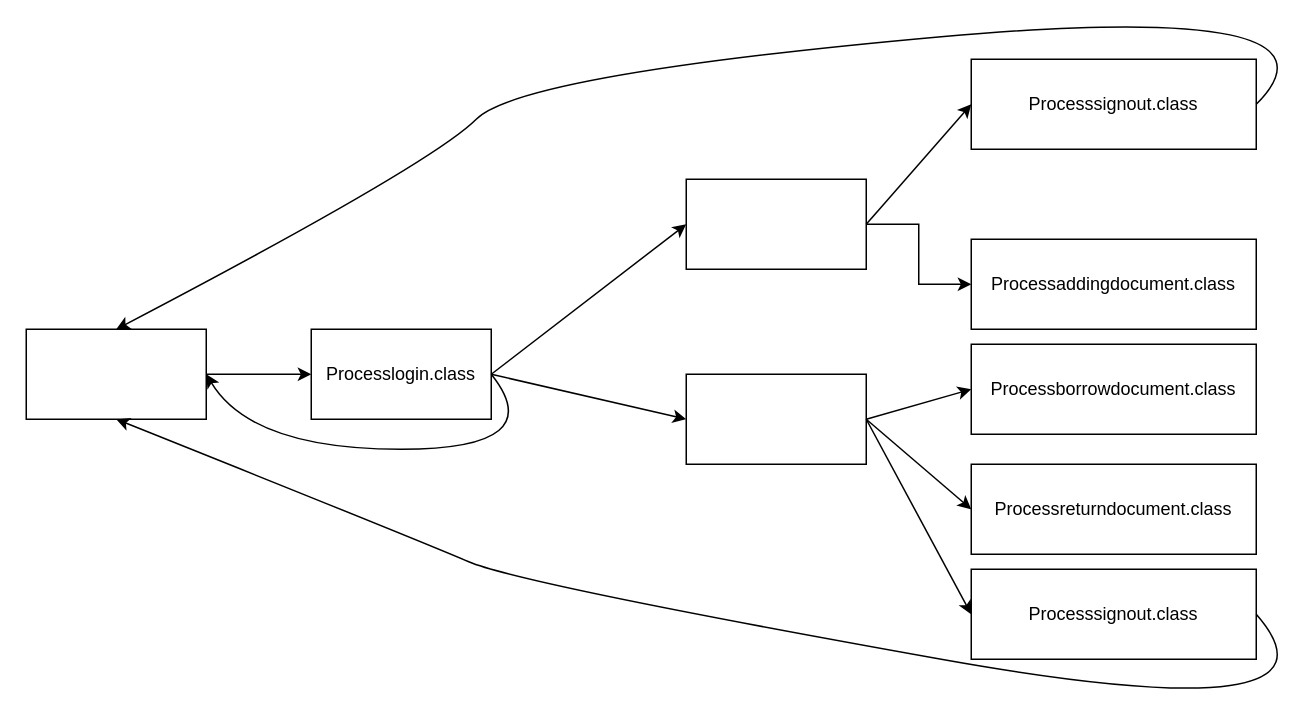
This 1305x714 diagram has some shape labels left out. Here are the shapes that lost their labels. From the top down, the centre of each, then its label:
At [775,223]: "MenuLib.jsp".
At [115,373]: "Accueil.html".
At [775,418]: "MenuSub.jsp".
